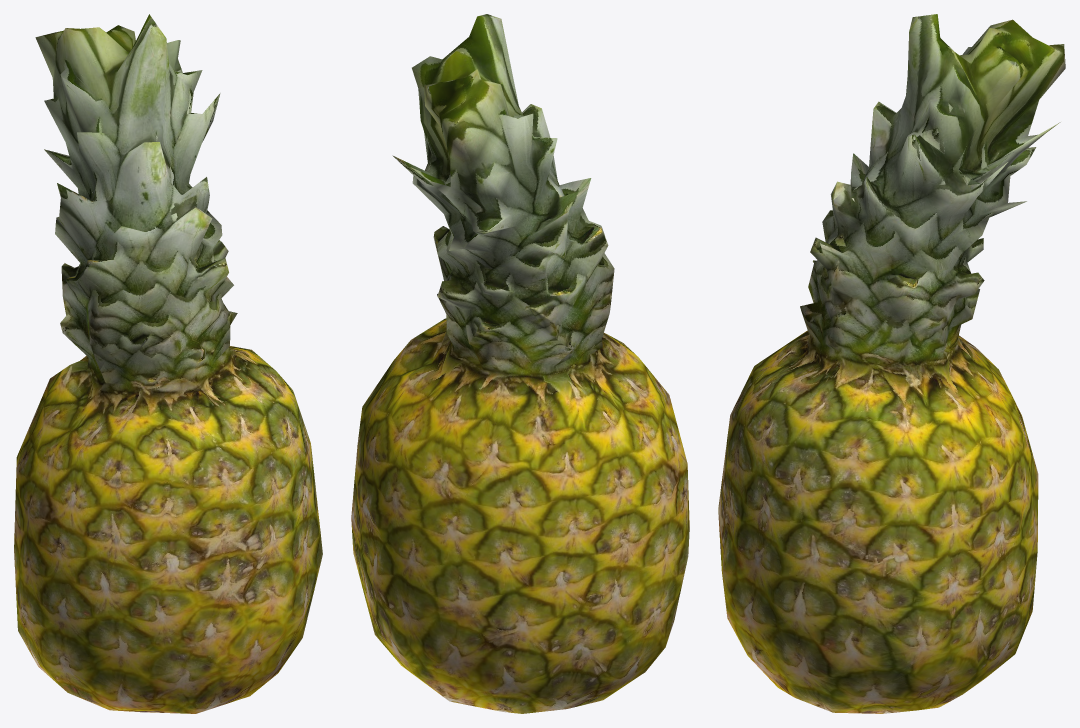
Rendered from PINEAPPLE.glb.
3 renders of one model, left to right at view 1: azimuth 30°, elevation 25°; view 2: azimuth 150°, elevation 25°; view 3: azimuth 270°, elevation 25°, orthographic. The views are drawn at different scales.
Visible parts, largest first — view 1: 80_pineapple_80_pineapple_0.005; view 2: 80_pineapple_80_pineapple_0.005; view 3: 80_pineapple_80_pineapple_0.005.
Part boxes in pixels (bbox=[...]): 80_pineapple_80_pineapple_0.005: bbox=[14, 14, 322, 713]; 80_pineapple_80_pineapple_0.005: bbox=[351, 14, 689, 713]; 80_pineapple_80_pineapple_0.005: bbox=[718, 14, 1065, 713].
Bounding box in the file's own units: 0.1473 × 0.3302 × 0.1532.
1 material, 1 textured.
